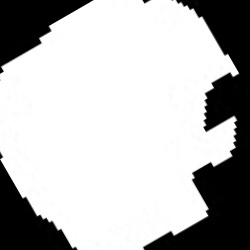spot: (2, 1, 237, 249)
